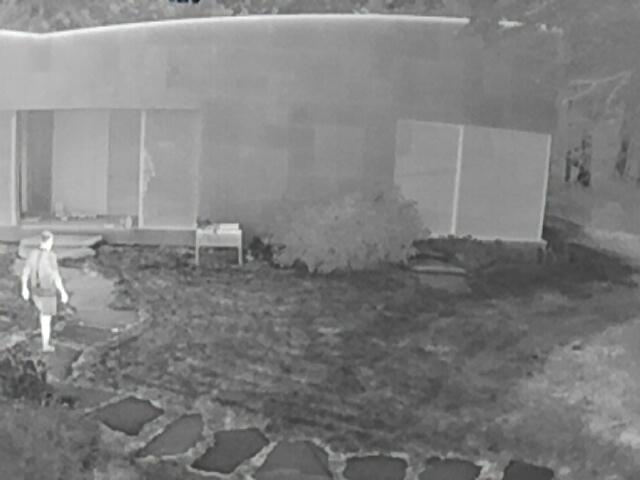person: (20, 230, 69, 351)
